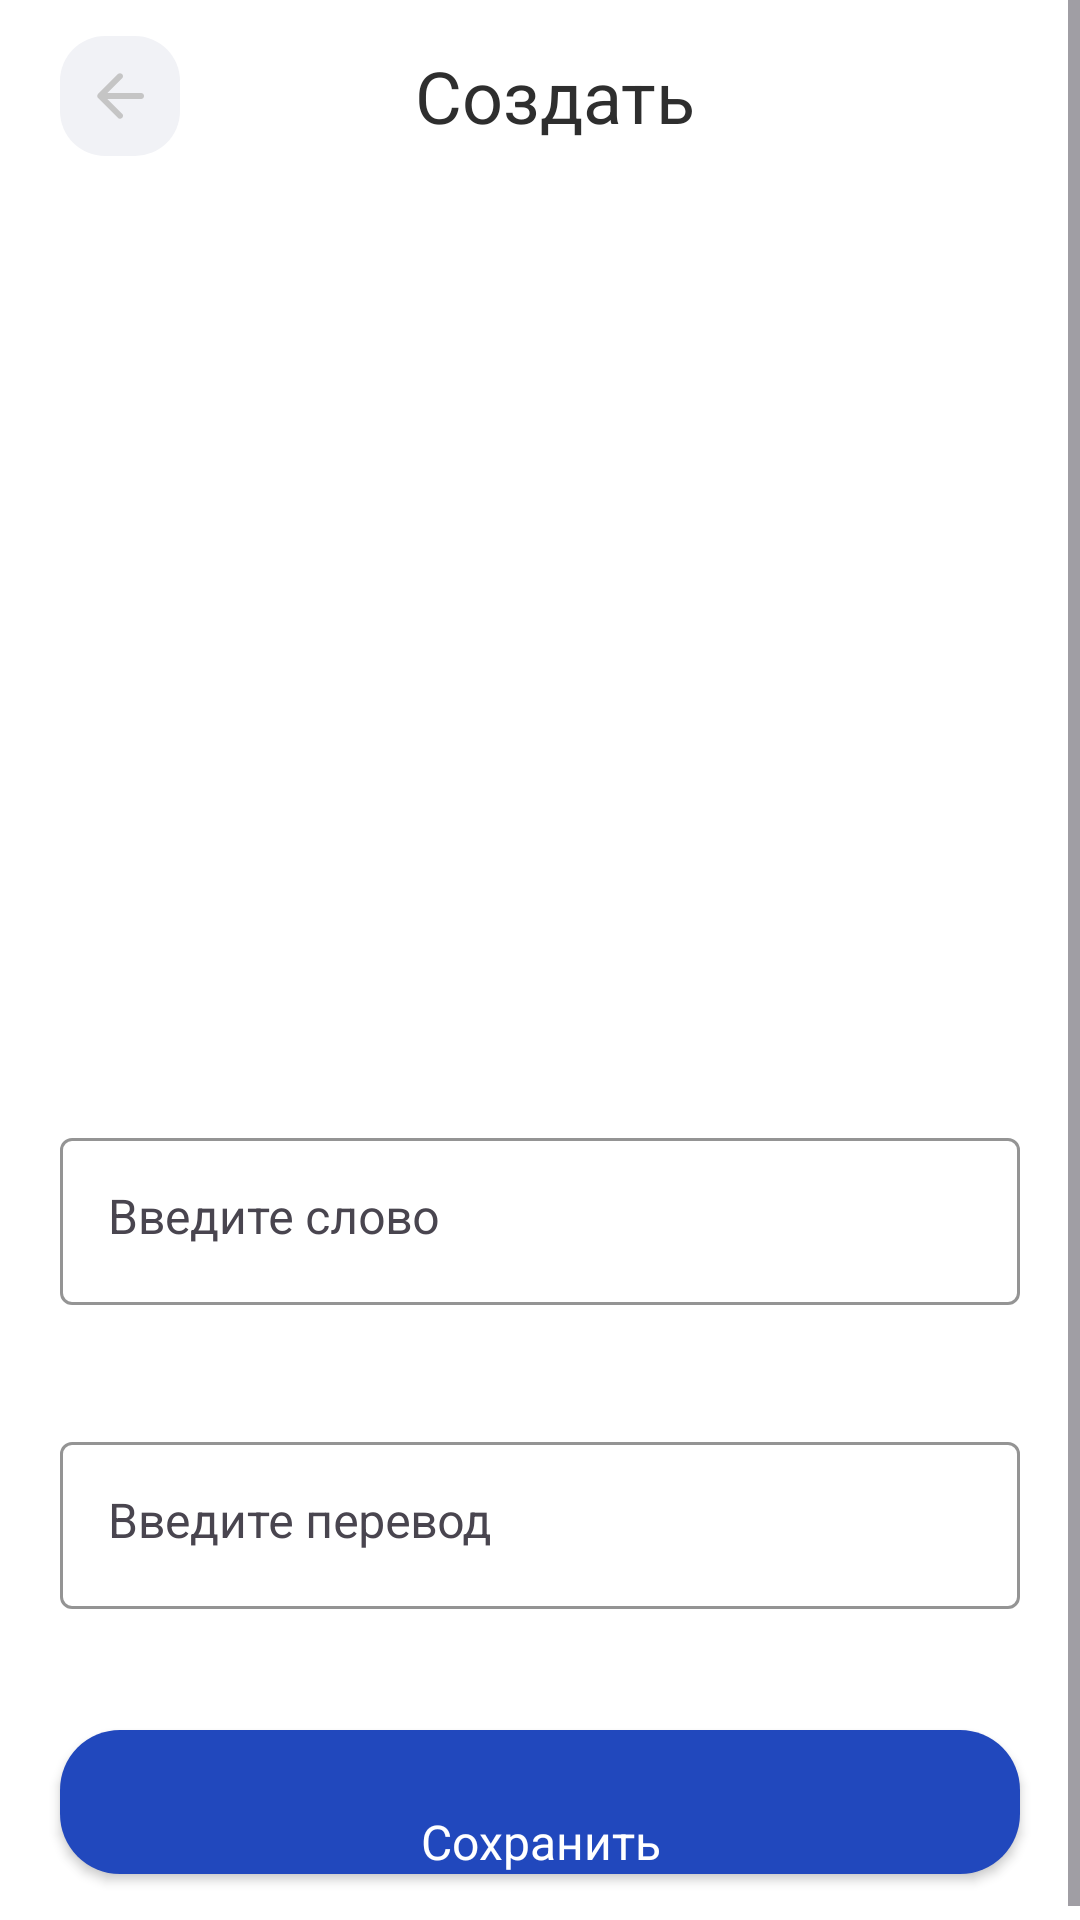

Point at icon controls on the screen. Image size 1080×1920, points as (x=x, y=y).
arrow back: (x=120, y=96)
